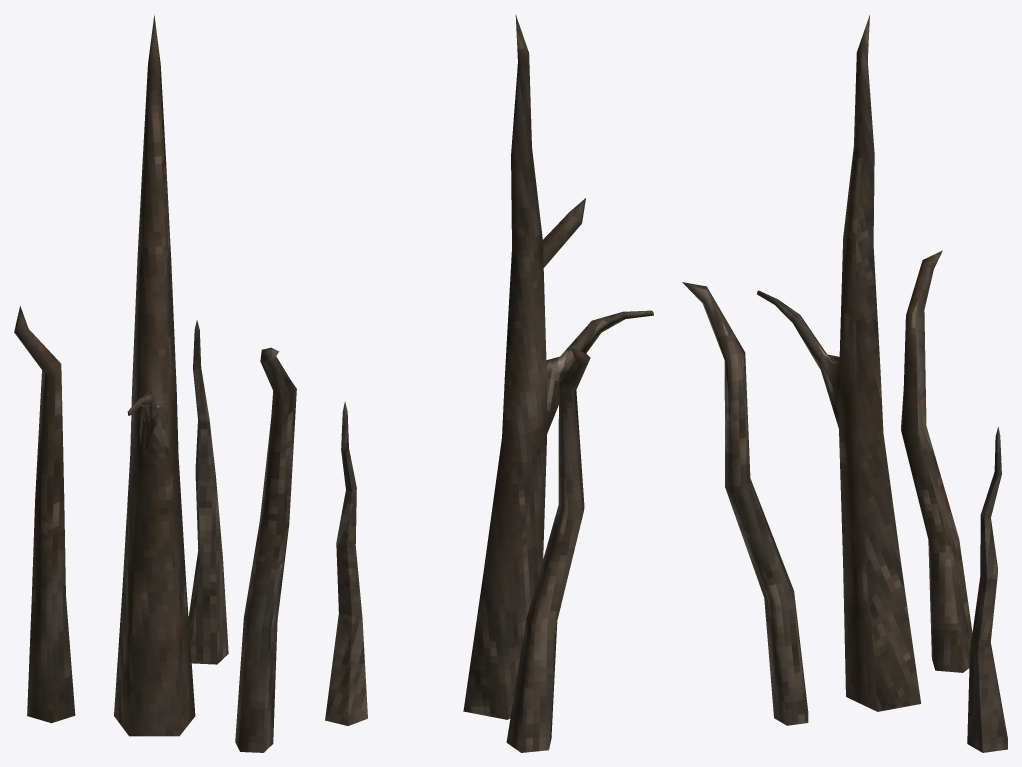
The model's file is tree_branch_6.fbx.
3 views of the same model, side by side, from view 1: azimuth 30°, elevation 25°; view 2: azimuth 150°, elevation 25°; view 3: azimuth 270°, elevation 25° (orthographic). The views are drawn at different scales.
Parts seen in each view (by area): view 1: tree_branch_6; view 2: tree_branch_6; view 3: tree_branch_6.
Boxes of the visible parts, x1,y1,x2,y2 form: tree_branch_6: (14,15,296,752); tree_branch_6: (325,14,653,752); tree_branch_6: (682,15,1007,752).
Bounding box in the file's own units: 30.21 × 37.25 × 85.4.
